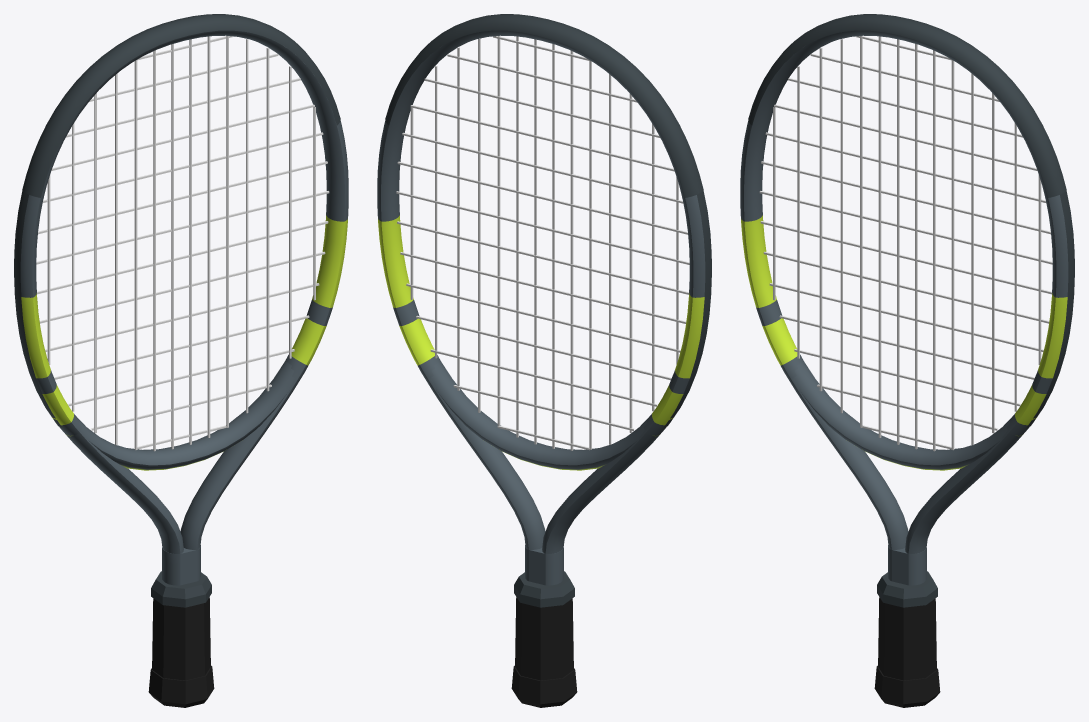
Rendered from babolat-carlitos-junior-19.glb.
The picture shows the model from 3 angles, left to right: view 1: azimuth 30°, elevation 25°; view 2: azimuth 150°, elevation 25°; view 3: azimuth 330°, elevation 25°; orthographic projection.
Visible parts, largest first — view 1: frame, strings_mains, strings_crosses, bumper, grip, butt_cap, grommets, collar; view 2: frame, strings_mains, strings_crosses, bumper, grip, butt_cap, grommets, collar; view 3: frame, strings_mains, strings_crosses, bumper, grip, butt_cap, grommets, collar.
Part boxes in pixels (x1,y1,x2,y2): frame: (20,30,348,585); strings_mains: (47,36,315,451); strings_crosses: (36,36,329,449); bumper: (22,14,340,197); grip: (152,597,210,680); butt_cap: (148,665,214,707); grommets: (14,190,61,427); collar: (151,571,211,607); frame: (377,30,705,585); strings_mains: (410,36,678,450); strings_crosses: (396,36,689,450); bumper: (385,14,703,197); grip: (515,597,573,680); butt_cap: (511,665,577,707); grommets: (664,190,711,427); collar: (514,571,574,607); frame: (740,30,1068,585); strings_mains: (773,36,1041,451); strings_crosses: (759,36,1052,449); bumper: (748,14,1066,197); grip: (878,597,936,680); butt_cap: (874,665,940,707); grommets: (1027,190,1074,427); collar: (877,571,937,607).
Bounding box in the file's own units: 0.2471 × 0.4829 × 0.0396.
